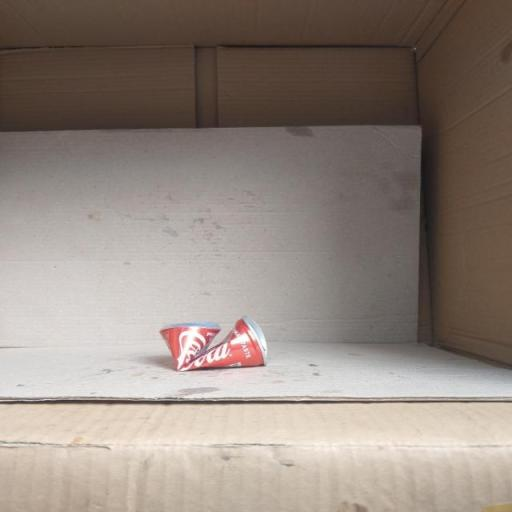metal: (114, 281, 292, 405)
